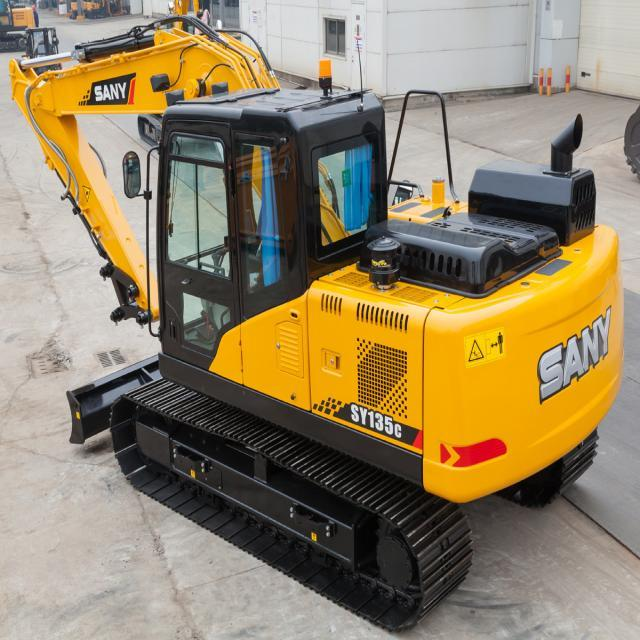C_E: (5, 15, 626, 634)
